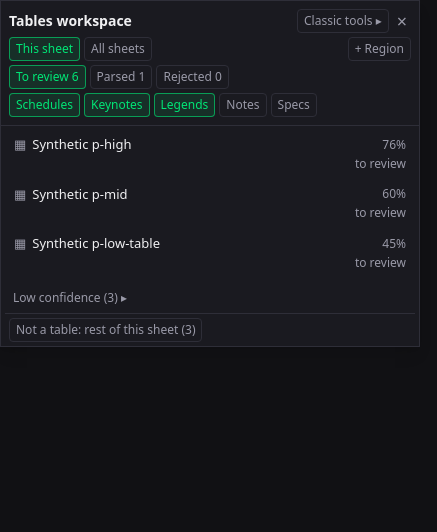
Test: inbox › bulk reject: an open fold adds its rows; classified-table / ensemble items never take a verdict
This screenshot has width=437, height=532.
Expected: the list named "Inbox" is shown, [5, 130, 415, 276]
Click the button "Low confidence (3) ▸" at coordinates (60, 297), box [5, 286, 415, 308]
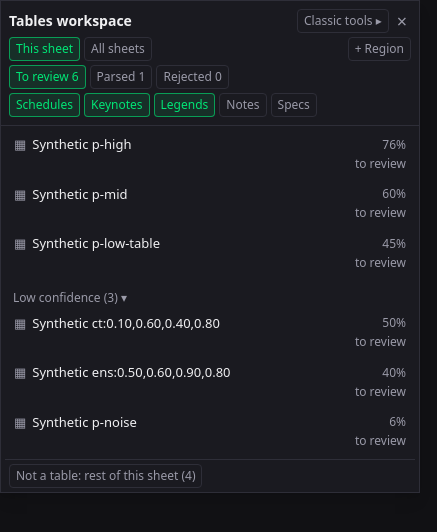
Now the text "Synthetic ct:0.10,0.60,0.40,0.80" is shown, box [32, 314, 220, 332]
Click the button "Not a table: rest of this sheet (4)" at coordinates (106, 476), box [9, 464, 202, 488]
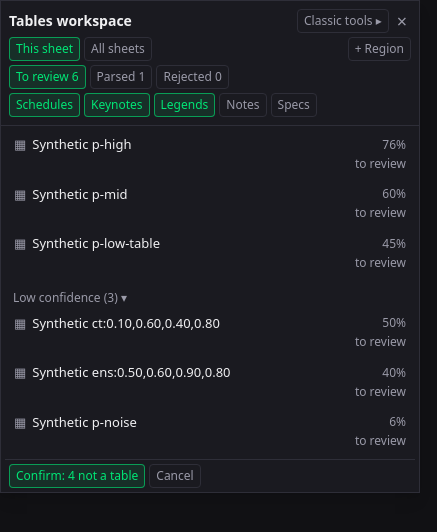
Click the button "Confirm: 4 not a table" at coordinates (77, 476), box [9, 464, 145, 488]
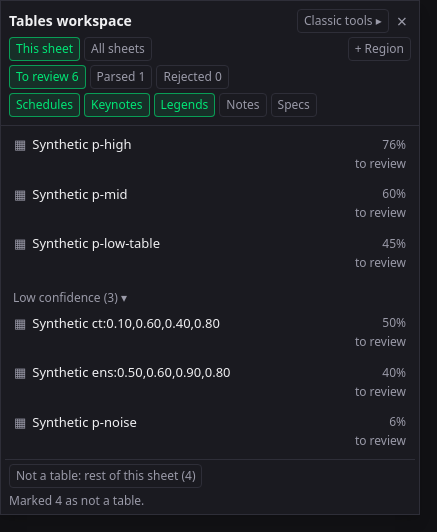
Now the text "Marked 4 as not a table." is shown, box [9, 492, 144, 509]
